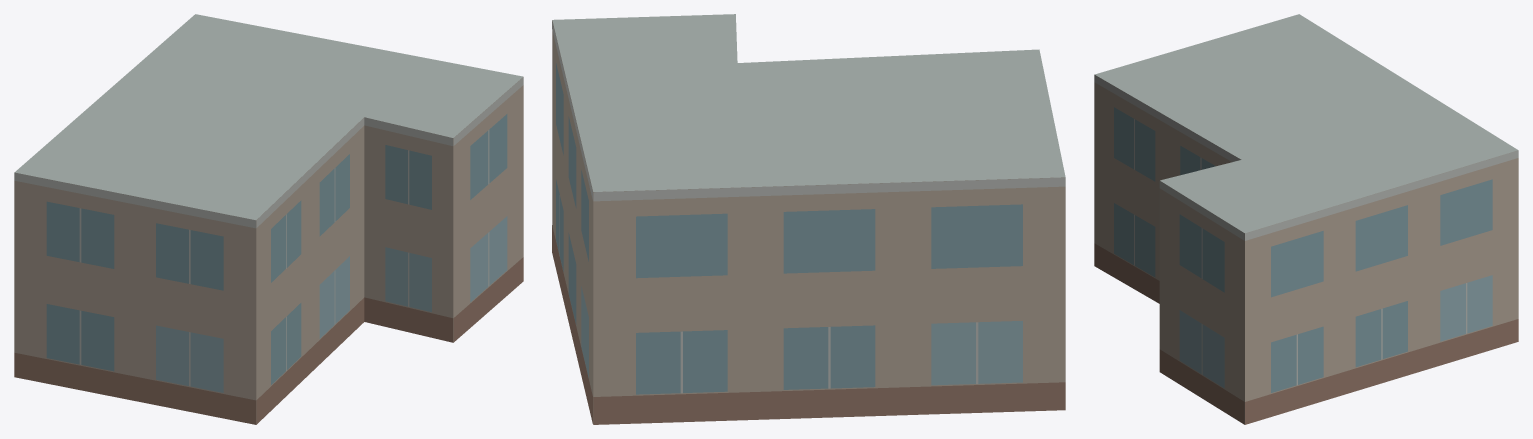
The model's file is survey-upis-32912842.glb.
3 views of the same model, side by side, from view 1: azimuth 30°, elevation 25°; view 2: azimuth 150°, elevation 25°; view 3: azimuth 270°, elevation 25° (orthographic). The views are drawn at different scales.
Visible parts, largest first — view 1: survey-upis-32912842.tmp; view 2: survey-upis-32912842.tmp; view 3: survey-upis-32912842.tmp.
Part boxes in pixels (x1,y1,x2,y2): survey-upis-32912842.tmp: [14, 14, 523, 424]; survey-upis-32912842.tmp: [552, 14, 1065, 424]; survey-upis-32912842.tmp: [1094, 14, 1518, 424].
Bounding box in the file's own units: 14.99 × 6.1 × 12.25.
